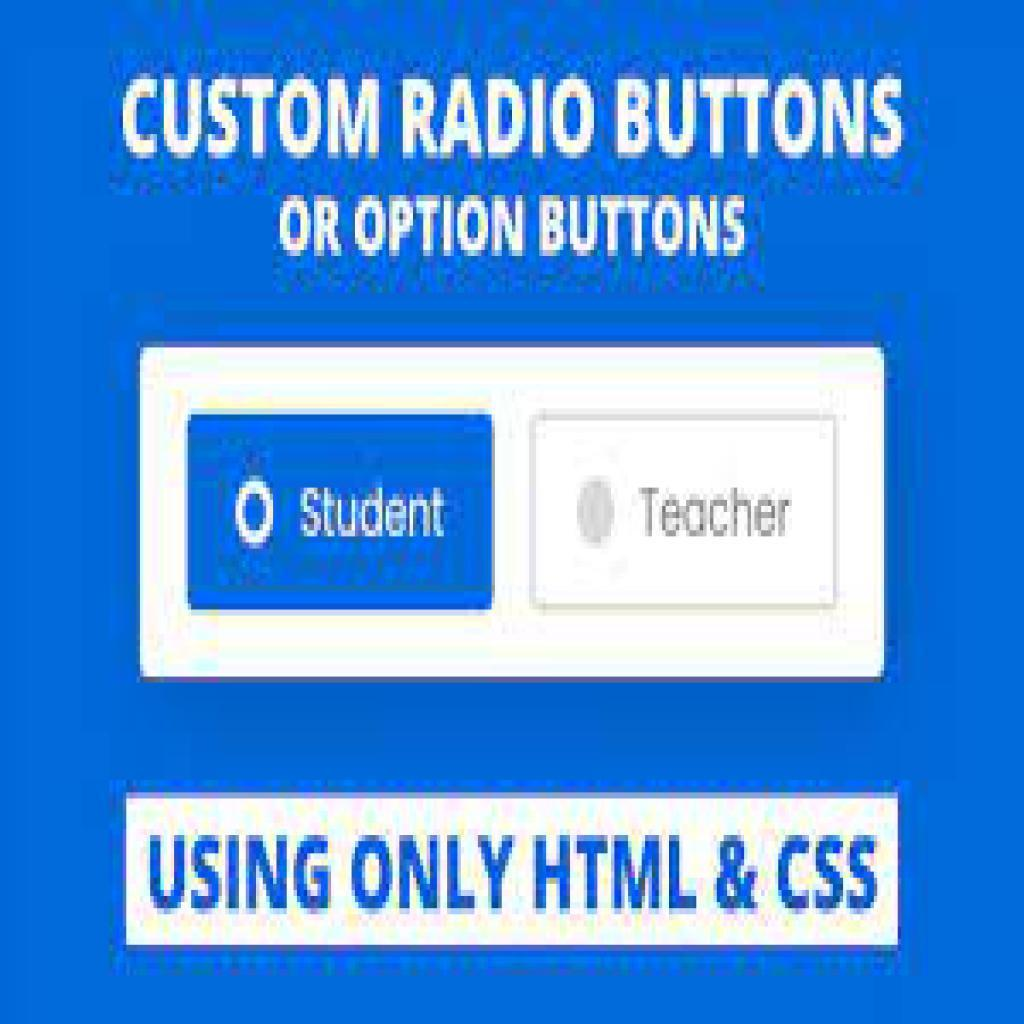radio: (236, 475, 281, 551), (577, 475, 622, 549)
